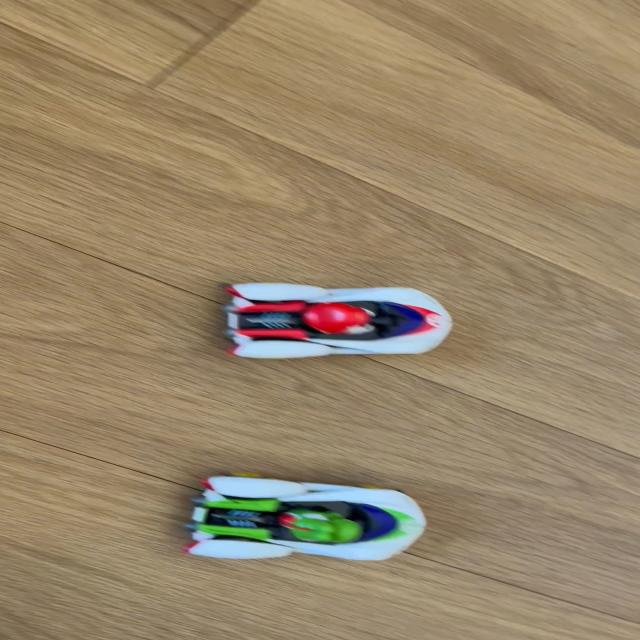mario: (206, 276, 467, 366)
yoshi: (178, 463, 446, 564)
